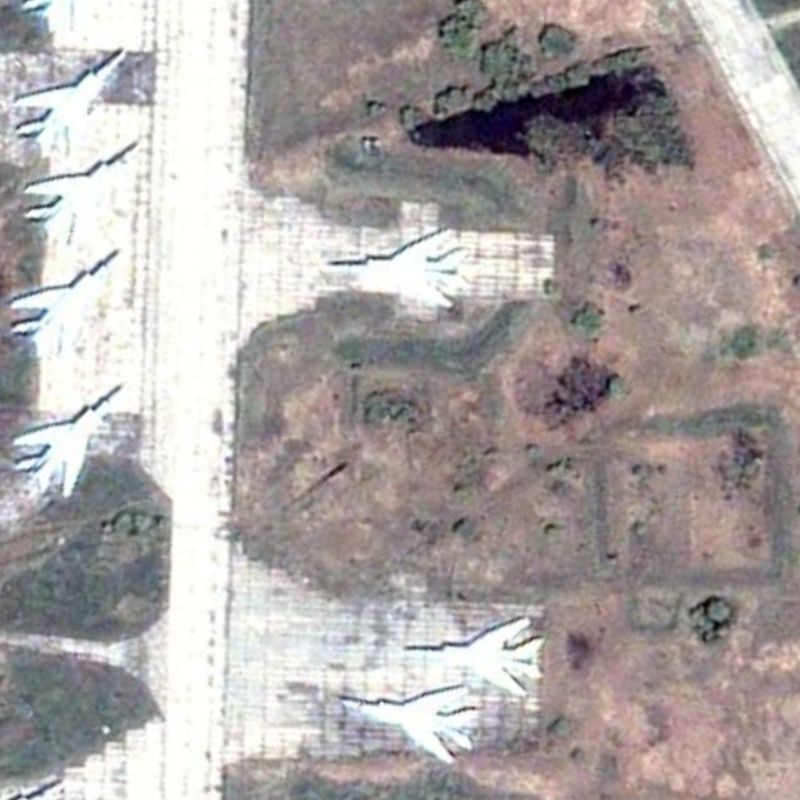A12: (11, 45, 133, 161), (20, 135, 145, 247), (322, 224, 477, 314), (10, 380, 125, 501), (6, 244, 124, 359), (396, 614, 549, 699), (338, 683, 482, 768)
